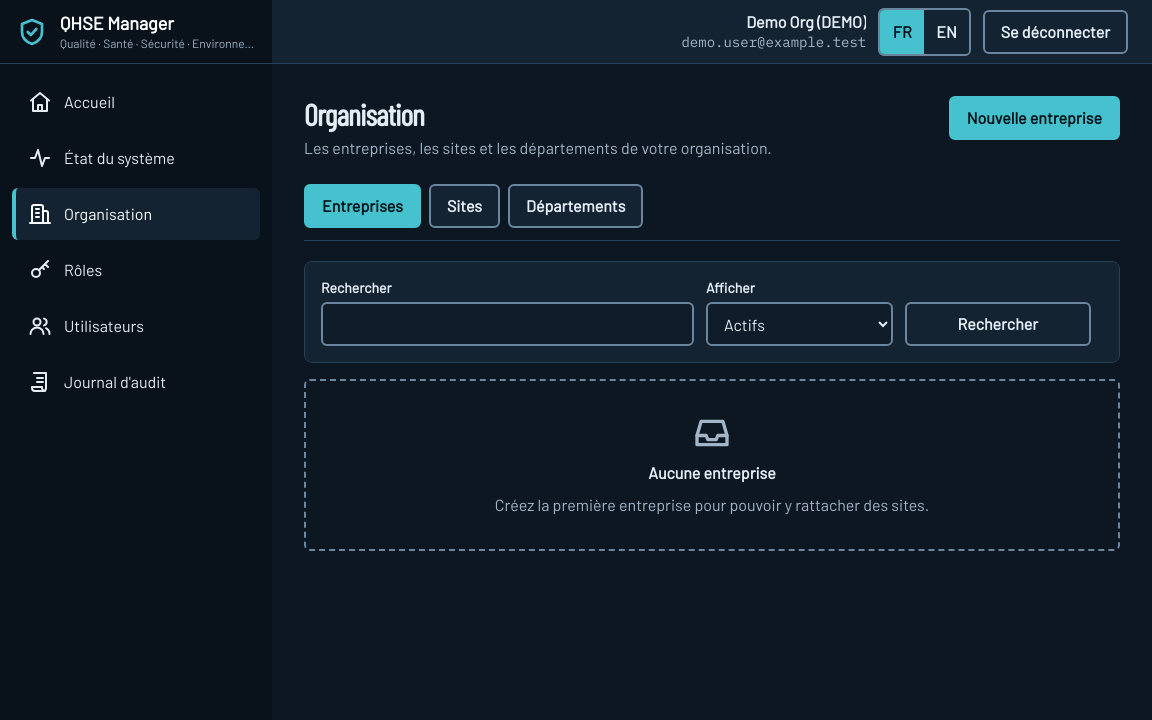
Scenario: organisation lists › hides archived records by default and shows them on request
The width and height of the screenshot is (1152, 720).
Expected: the text "Aucune entreprise" is shown, [648,461,776,485]
Select "Archivés" in the dropdown labelled "Afficher". click: (799, 324)
box: [706,302,892,346]
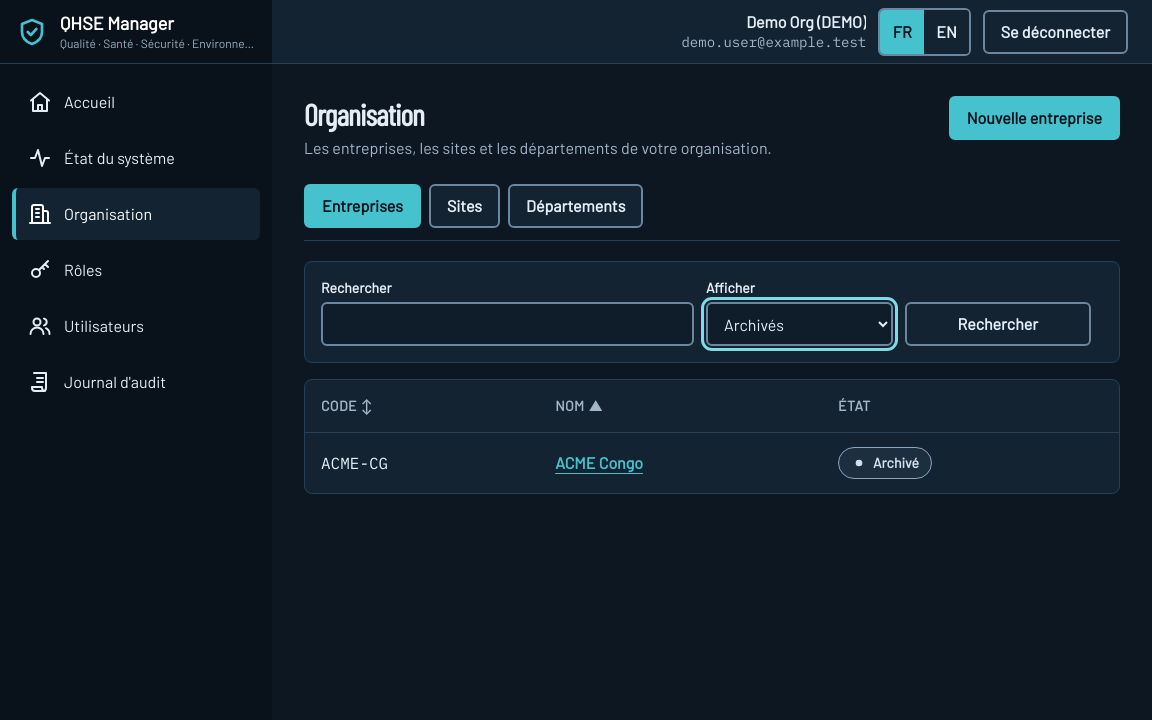
Expected: the text "Archivé" is shown, [838,447,932,479]
